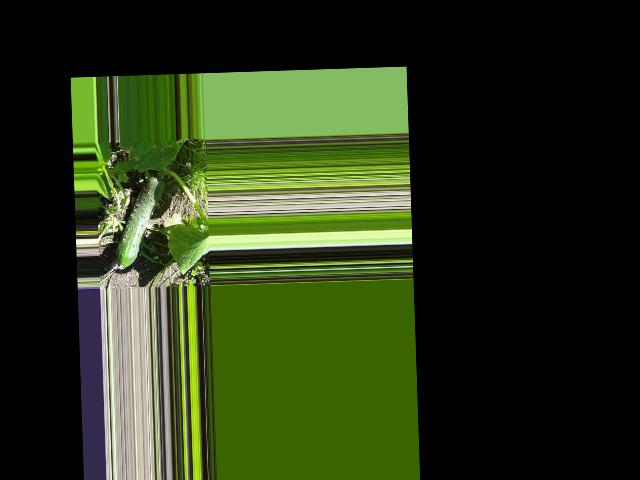cucumber: (113, 174, 167, 269)
